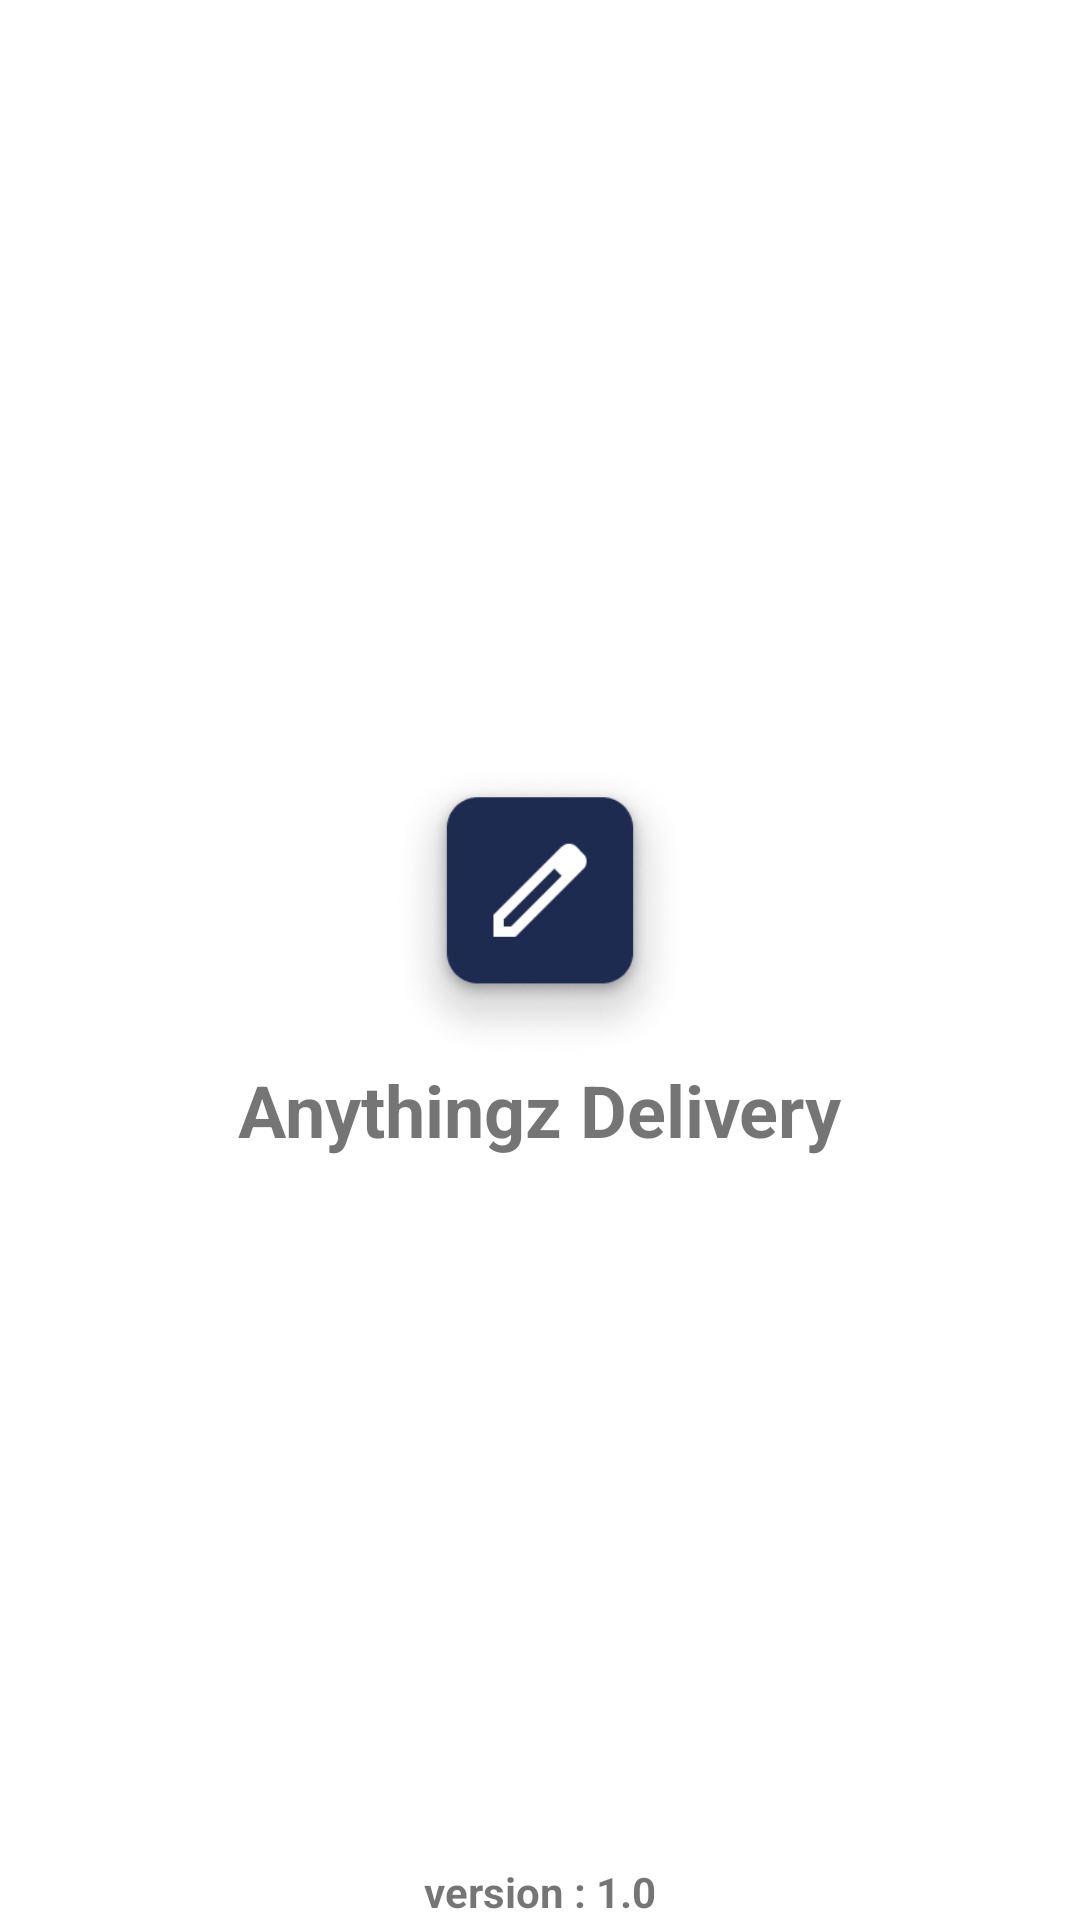

Screen size 1080×1920. Icon name, then its center in pixels as (x,y):
fab: (540,904)
